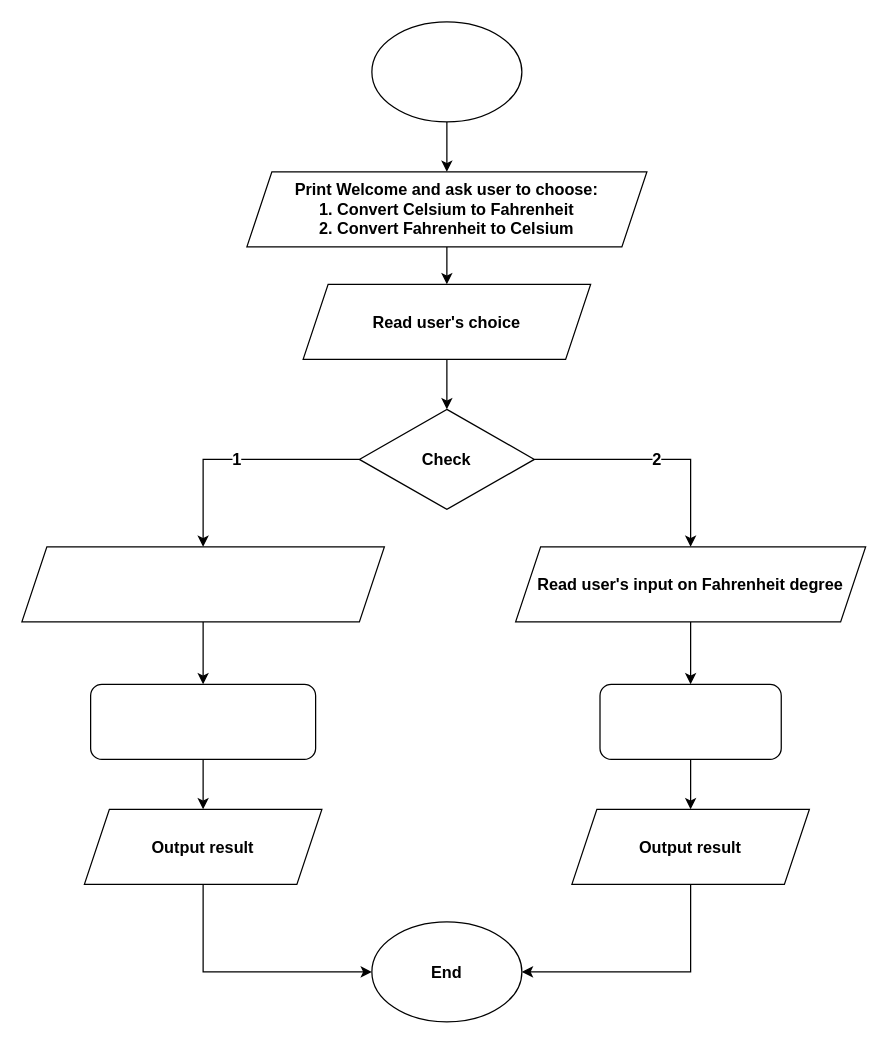
The diagram is 888 pixels wide and 1044 high, and some of its shapes have lost their labels. The centre of each missing label's shape, as x and y in pixels:
C = (F-32)*5/9: point 690,721
F = C*9/5+32: point 202,721
Read user's input on Celsius degree: point 202,584
Start: point 446,71
